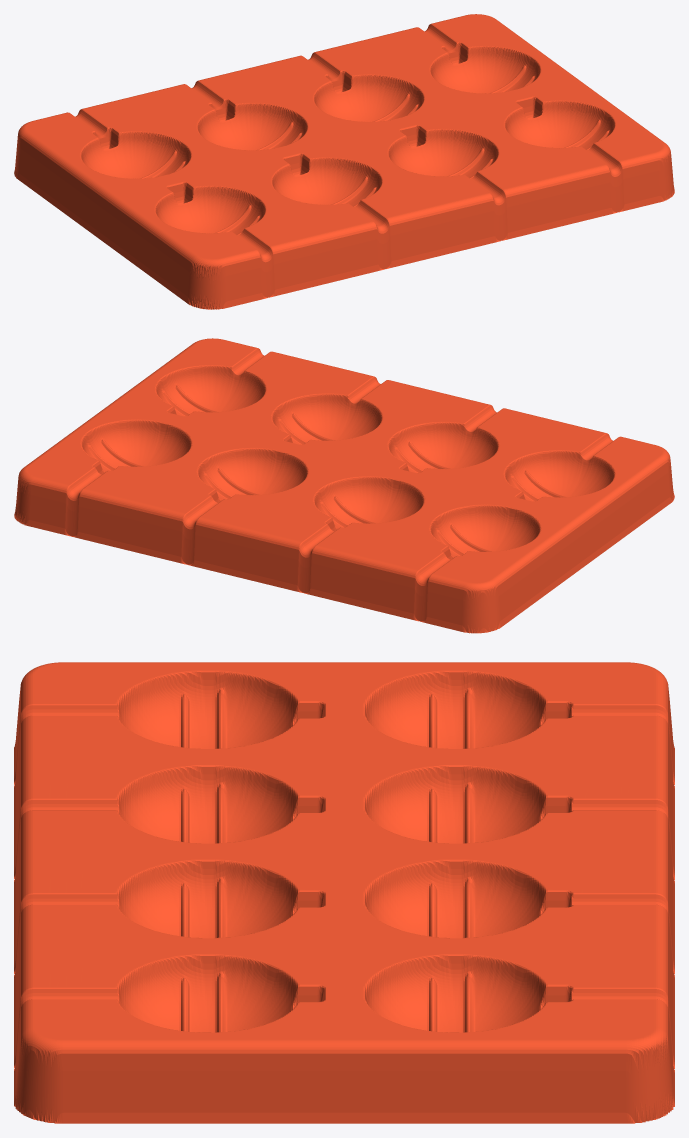
Rendered from mold.glb.
The picture shows the model from 3 angles, top to bottom: view 1: azimuth 30°, elevation 25°; view 2: azimuth 150°, elevation 25°; view 3: azimuth 270°, elevation 25°; orthographic projection. The views are drawn at different scales.
Parts seen in each view (by area): view 1: geometry_0; view 2: geometry_0; view 3: geometry_0.
Boxes of the visible parts, bbox=[...] form: geometry_0: bbox=[14, 14, 674, 309]; geometry_0: bbox=[14, 338, 674, 633]; geometry_0: bbox=[14, 662, 674, 1123].
Size of the model in its own units: 0.1728 by 0.0155 by 0.1229.
